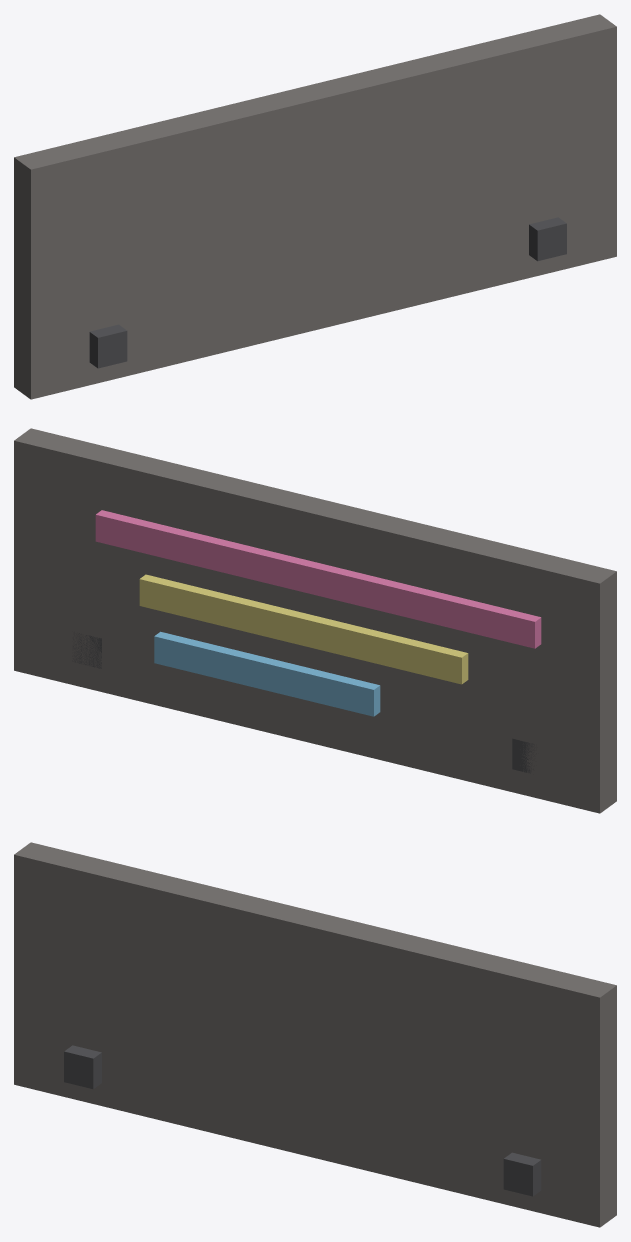
File: arte_letreiro.glb
3 renders of one model, top to bottom at view 1: azimuth 30°, elevation 25°; view 2: azimuth 150°, elevation 25°; view 3: azimuth 330°, elevation 25°, orthographic.
Visible parts, largest first — view 1: ARTE_LETREIRO_v01; view 2: ARTE_LETREIRO_v01; view 3: ARTE_LETREIRO_v01.
Part boxes in pixels (box(x1,y1,x2,y2)): ARTE_LETREIRO_v01: box(14, 14, 616, 399); ARTE_LETREIRO_v01: box(14, 428, 616, 813); ARTE_LETREIRO_v01: box(14, 842, 616, 1227).
Size of the model in its own units: 0.8 by 0.3 by 0.075.
